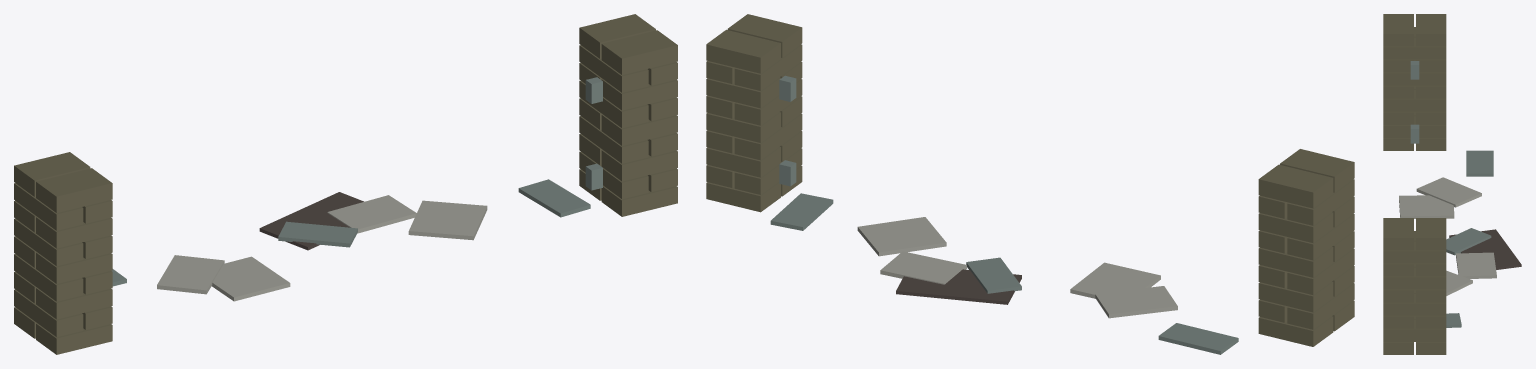
The model's file is SM_PuertaVehiculos_v0_TuboChapa_e3_Brecha_LOD0.fbx.
3 renders of one model, left to right at view 1: azimuth 30°, elevation 25°; view 2: azimuth 150°, elevation 25°; view 3: azimuth 270°, elevation 25°, orthographic. The views are drawn at different scales.
Visible parts, largest first — view 1: SM_bloques.puerta_estados_v3_LOD0, Hoja_E; view 2: SM_bloques.puerta_estados_v3_LOD0, Hoja_E; view 3: SM_bloques.puerta_estados_v3_LOD0, Hoja_O.
Part boxes in pixels (box(x1,y1,x2,y2)): SM_bloques.puerta_estados_v3_LOD0: box(14, 14, 677, 354); Hoja_E: box(585, 77, 602, 190); SM_bloques.puerta_estados_v3_LOD0: box(706, 14, 1354, 354); Hoja_E: box(779, 75, 796, 186); SM_bloques.puerta_estados_v3_LOD0: box(1383, 14, 1521, 354); Hoja_O: box(1410, 61, 1419, 143).
Size of the model in its own units: 9.78 by 2.38 by 2.55.
